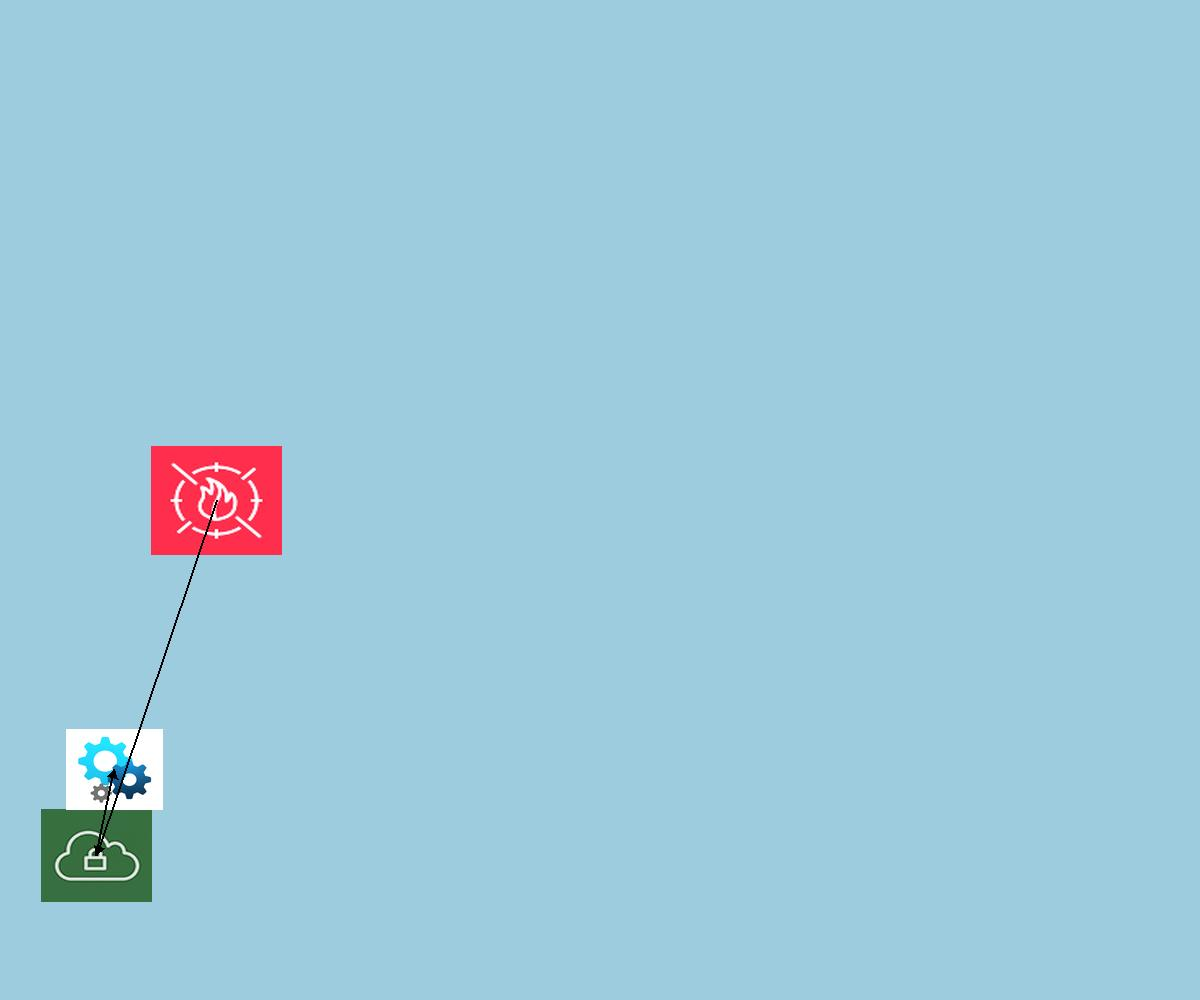AWS-Private_vpc: (41, 809, 152, 902)
AWS-WAF: (151, 446, 282, 555)
Azure_api: (66, 729, 163, 810)
